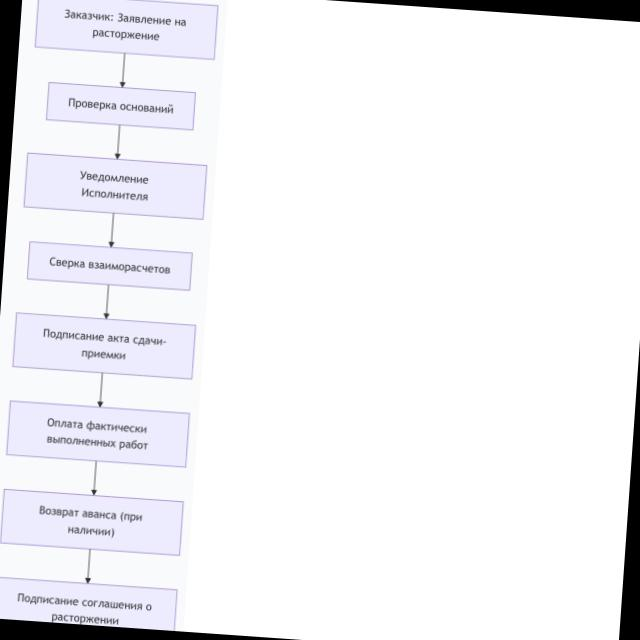arrow: (104, 286, 109, 319), (109, 214, 114, 247), (115, 126, 120, 159), (120, 54, 125, 87), (86, 550, 91, 583), (98, 373, 102, 406), (92, 462, 96, 494)
rectangle: (0, 489, 183, 555), (14, 313, 196, 379), (7, 401, 189, 467), (25, 154, 207, 219), (35, 0, 218, 58), (28, 242, 192, 290), (46, 83, 195, 130)
